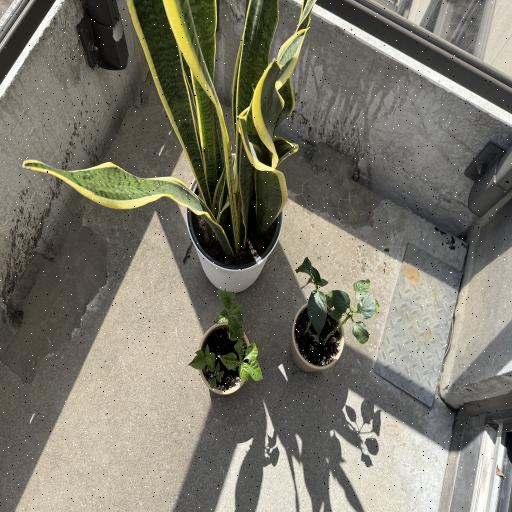Plant Pot: (184, 162, 284, 291), (192, 323, 254, 398), (291, 301, 345, 369)
